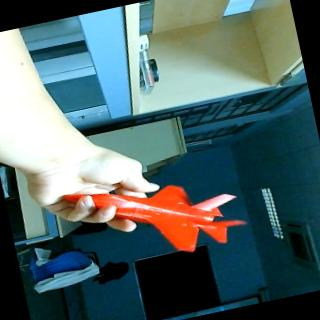Jet: (60, 158, 247, 274)
